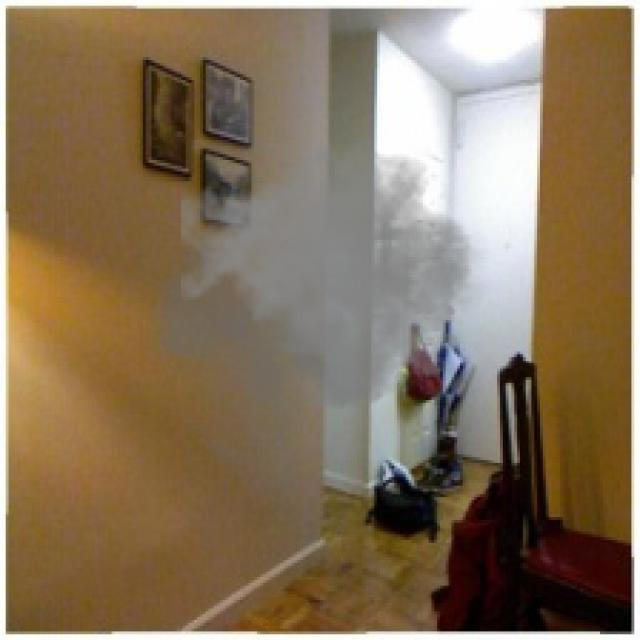smoke: (137, 134, 497, 506)
